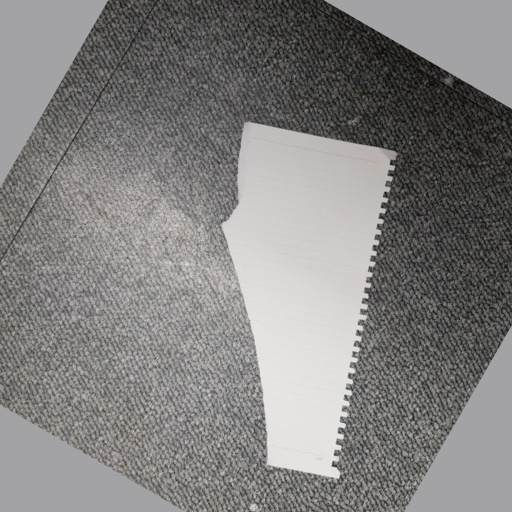Paper_2: (219, 107, 388, 469)
